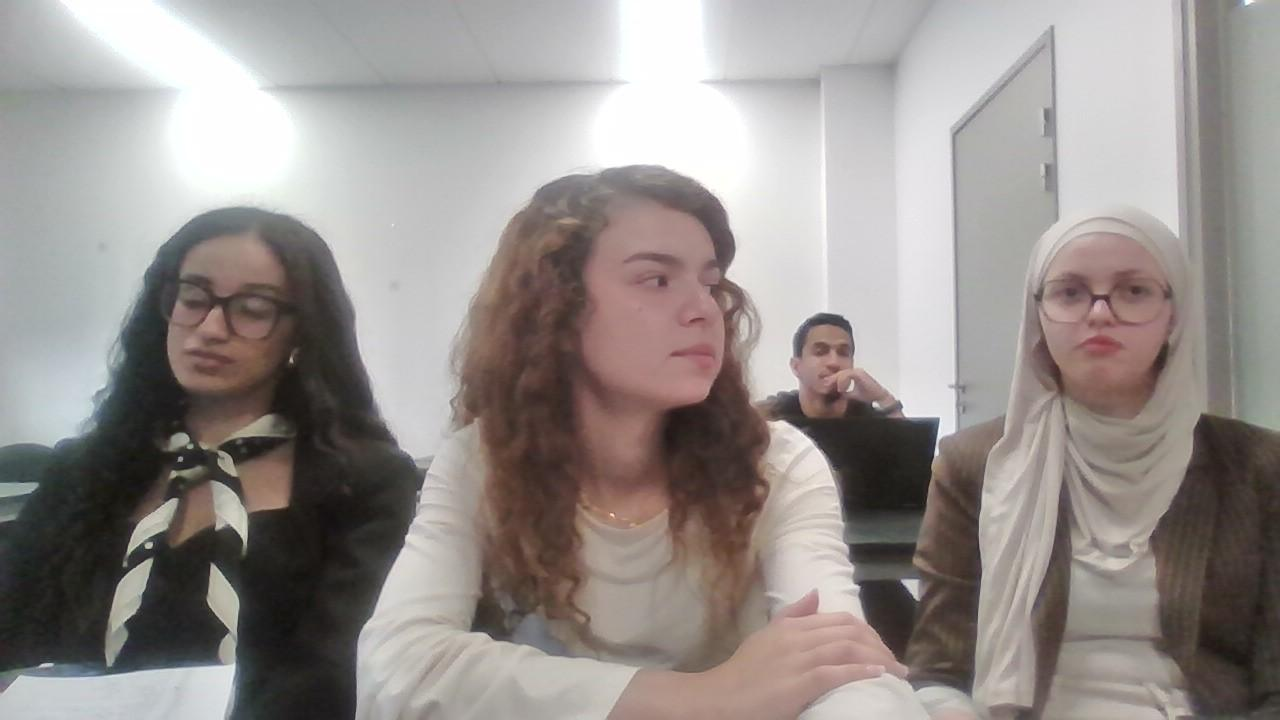looking_forward: (947, 193, 1280, 720), (759, 279, 930, 477)
sleeping: (66, 140, 376, 690)
turning_around: (404, 107, 800, 720)
